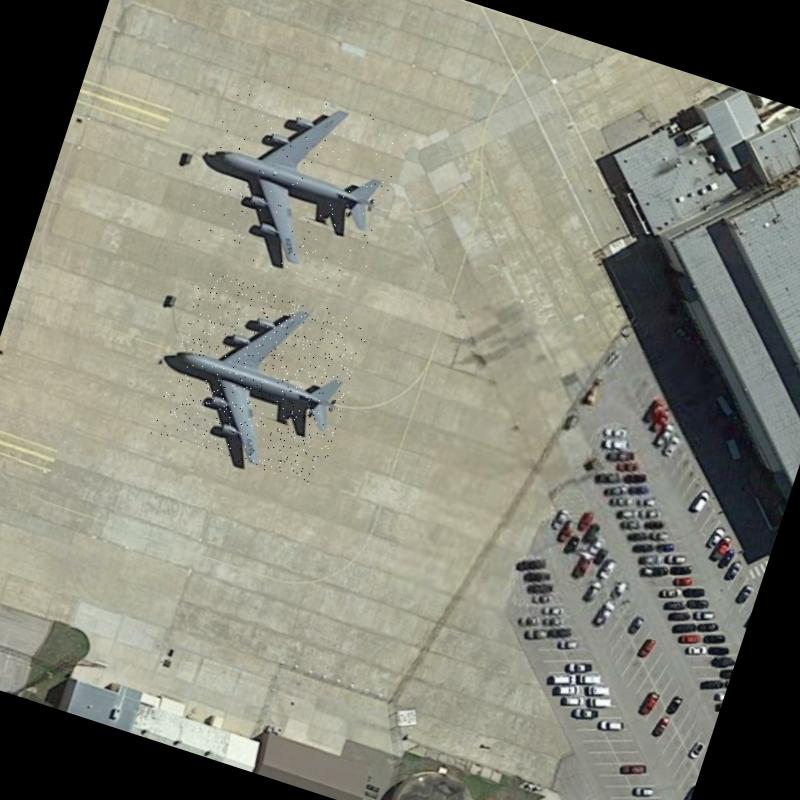A14: (182, 70, 414, 296), (150, 268, 372, 488)
